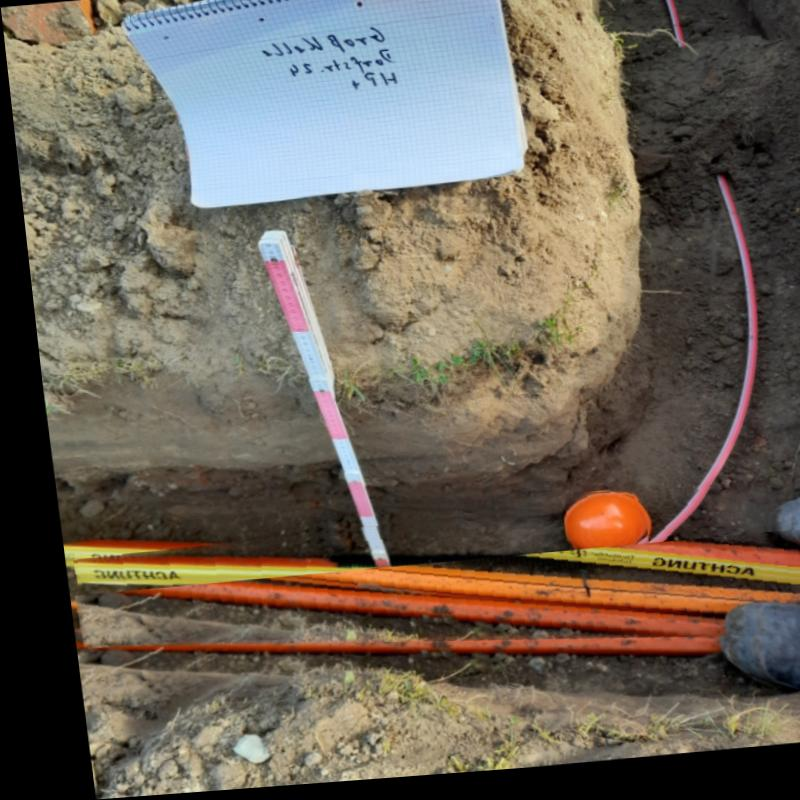Kugelmarker: (550, 500, 632, 562)
Orang-Speednetrohrchen: (58, 574, 800, 649), (60, 555, 800, 587)
